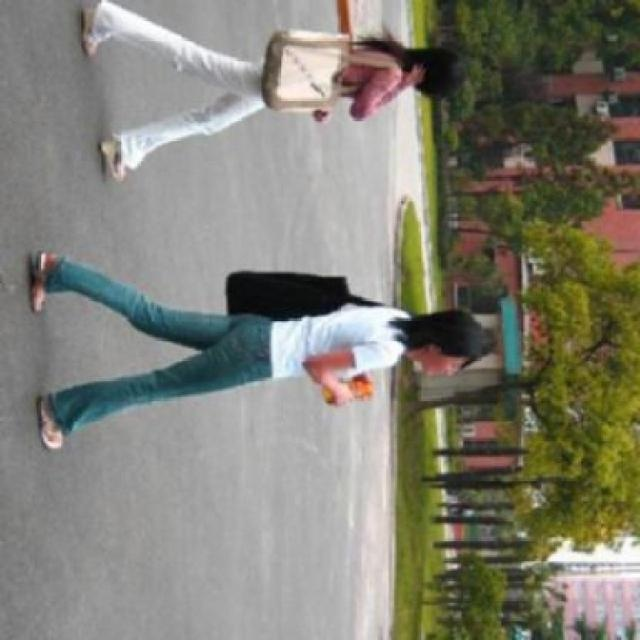obstacle: (18, 243, 490, 457), (64, 4, 470, 182)
